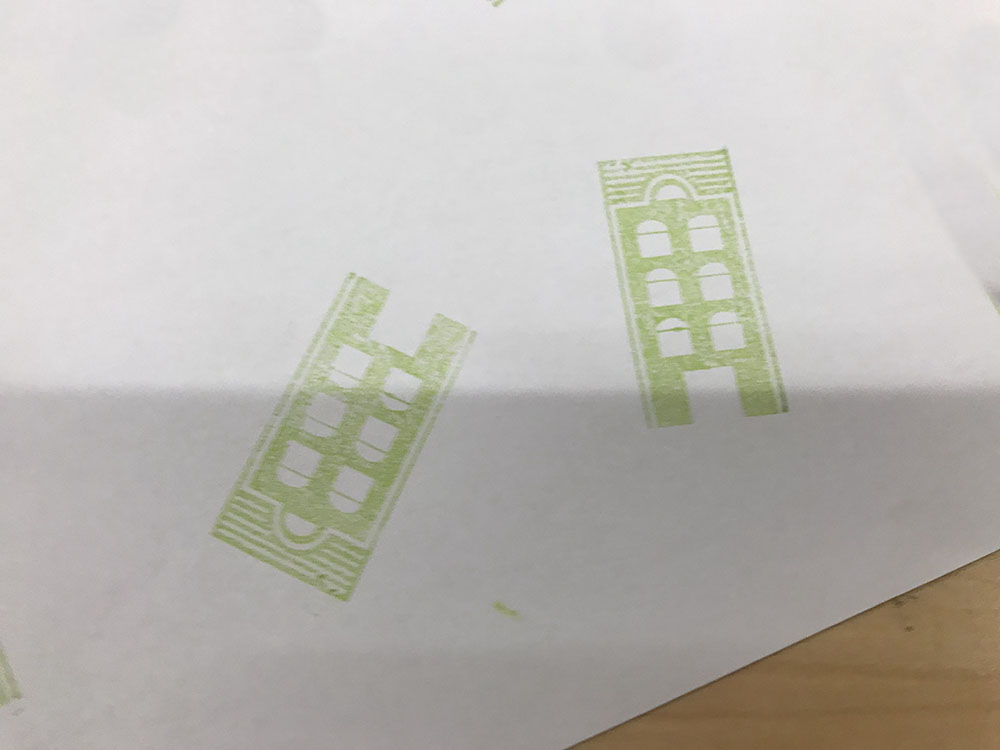build: (196, 260, 494, 619), (573, 143, 824, 433)
